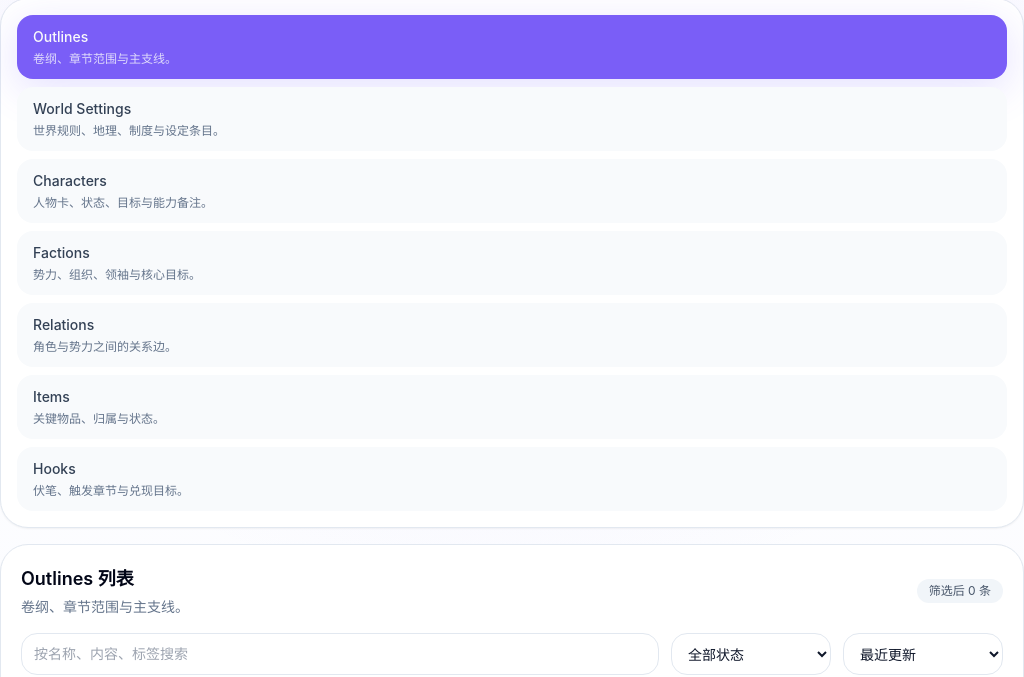
ResourcesPage › shows localized owner info on item cards
Click the button "Items 关键物品、归属与状态。" at x=51, y=396, box [17,375,1007,439]
(page scrolled)
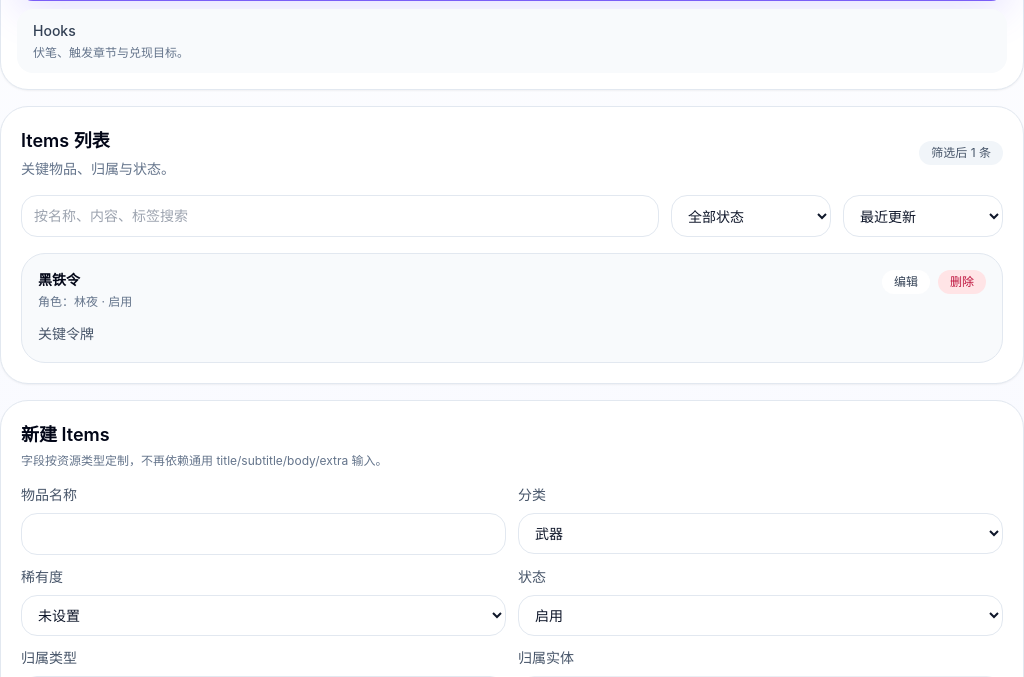
Check: the text "角色：林夜 · 启用" is shown, box [38,294,132,310]
